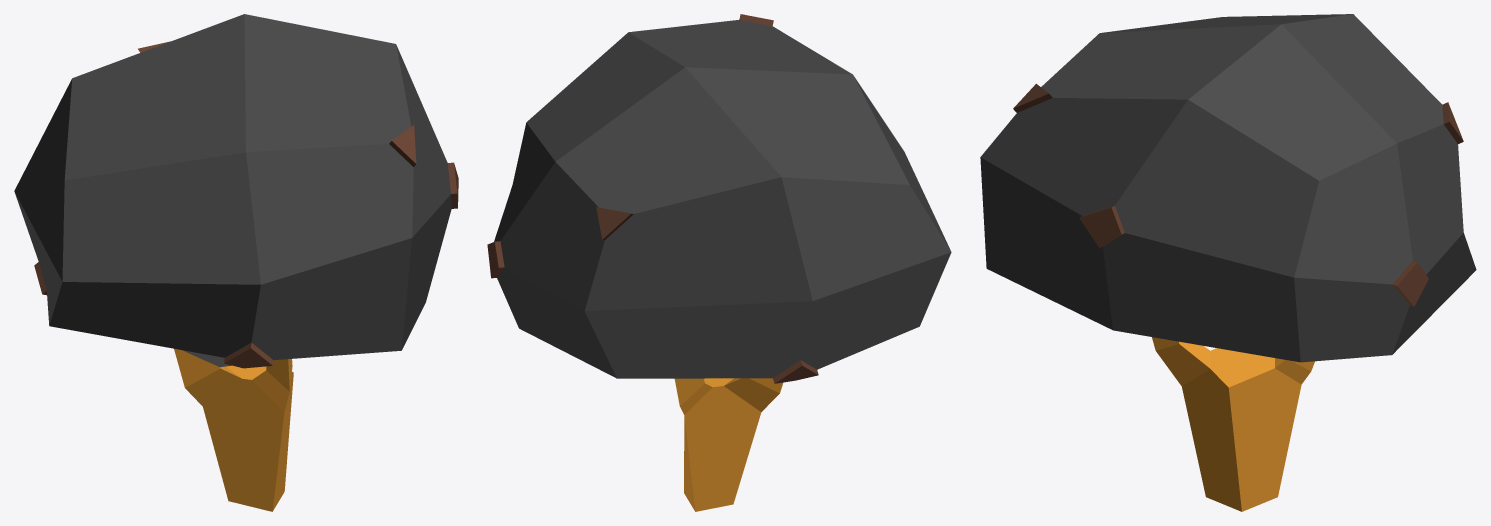
Rendered from bush_5.obj.
3 views of the same model, side by side, from view 1: azimuth 30°, elevation 25°; view 2: azimuth 150°, elevation 25°; view 3: azimuth 270°, elevation 25° (orthographic). The views are drawn at different scales.
Parts seen in each view (by area): view 1: bush_5; view 2: bush_5; view 3: bush_5.
Part boxes in pixels (x1=…): bush_5: x1=14, y1=14, x2=458, y2=511; bush_5: x1=487, y1=14, x2=951, y2=511; bush_5: x1=980, y1=14, x2=1476, y2=511.
Bounding box in the file's own units: 3.32 × 3.55 × 3.34.
